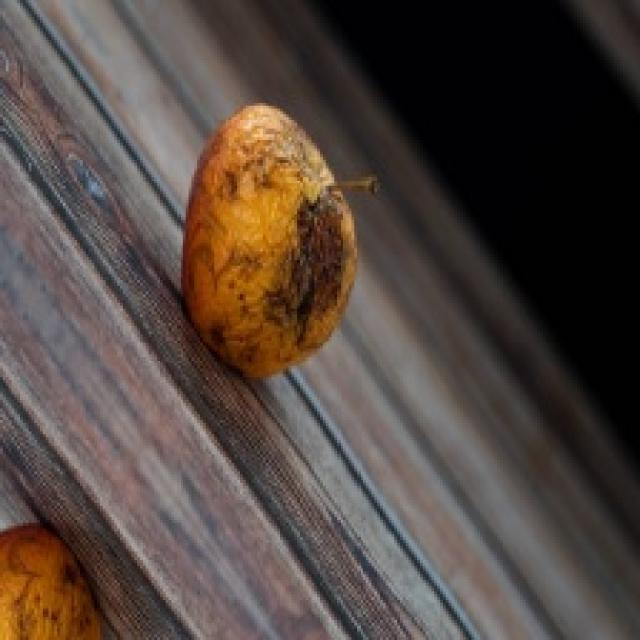rotten_apple: (190, 108, 356, 373)
